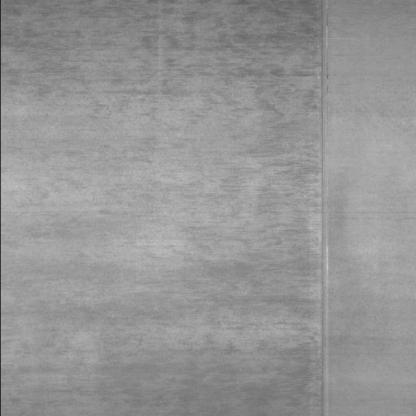silk_spot: (12, 5, 309, 413)
welding_line: (307, 0, 340, 416)
